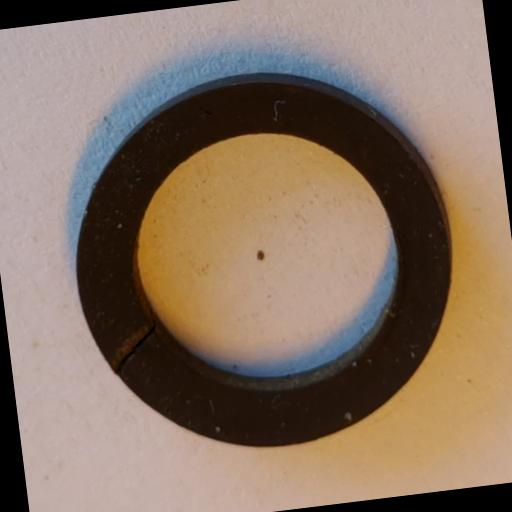defect: (106, 318, 161, 375)
